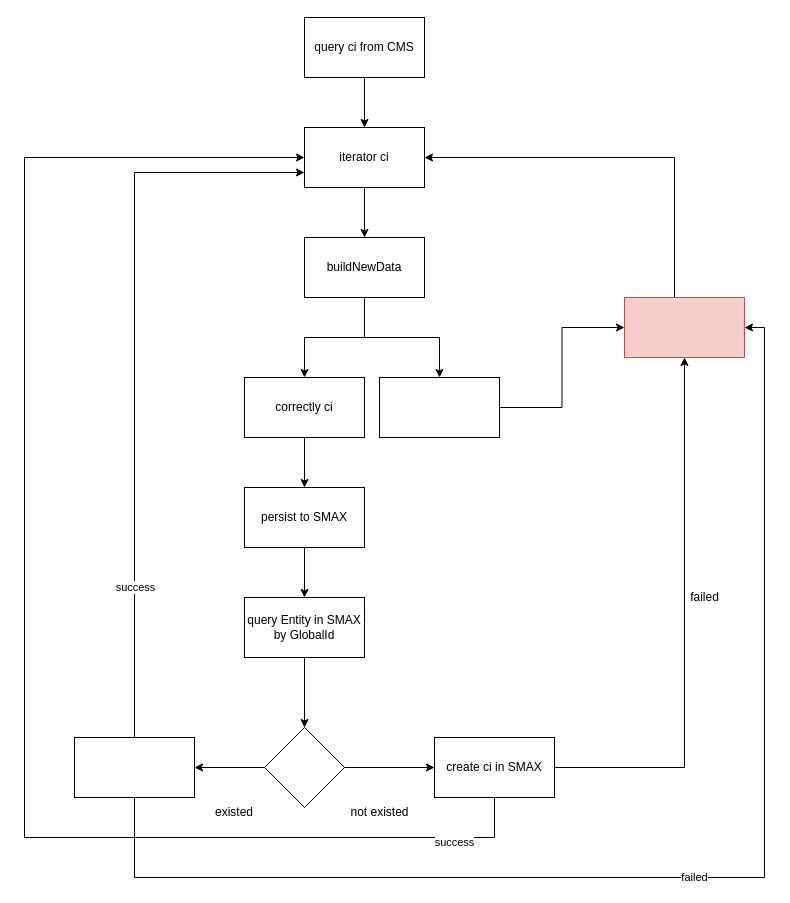
This 790x903 diagram has some shape labels left out. The shapes that lost their labels are listed below. From the top down, each one's centre as x and y in pixels, then its label:
At pixel 684 327: "failed List".
At pixel 439 407: "incorrectly ci".
At pixel 134 767: "update ci".
At pixel 304 767: "ci exist in SMAX".
